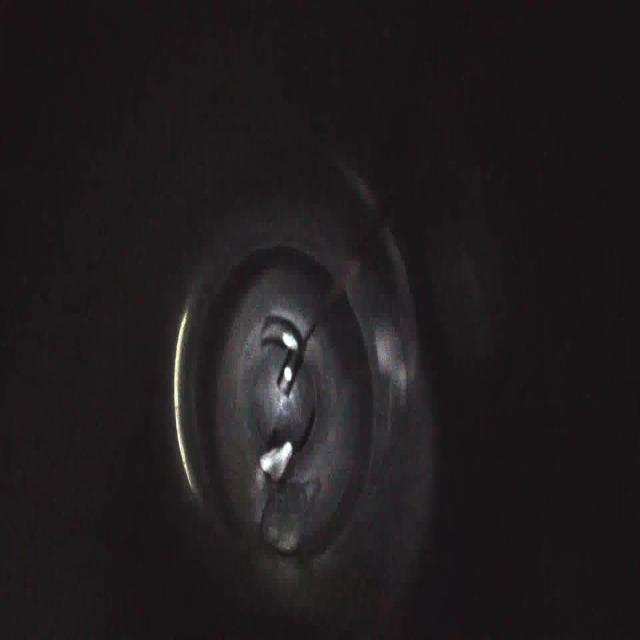impurity: (256, 483, 308, 559), (259, 438, 294, 484)
